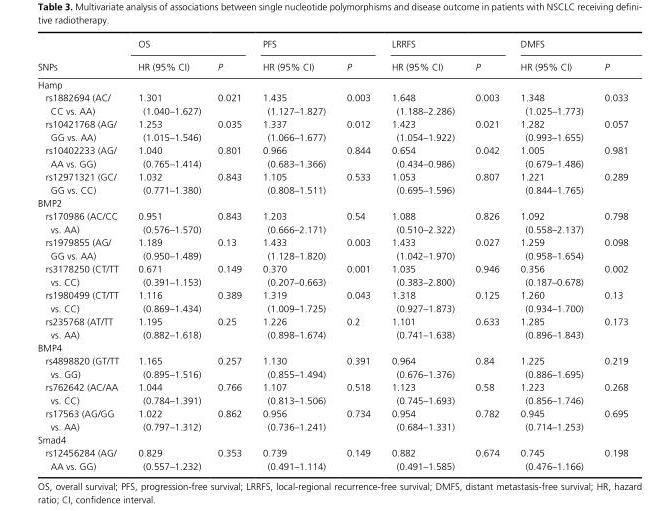table: (37, 37, 627, 471)
table column: (37, 37, 127, 471), (251, 37, 335, 471), (380, 37, 464, 471), (509, 37, 593, 471), (127, 37, 208, 471), (335, 37, 380, 471), (464, 37, 509, 471), (208, 37, 251, 471), (593, 37, 627, 471)
table column header: (37, 37, 627, 75)
table projected row header: (37, 75, 627, 90), (37, 196, 627, 209), (37, 340, 627, 353), (37, 432, 627, 445)
table row: (37, 90, 627, 117), (37, 169, 627, 196), (37, 261, 627, 288), (37, 353, 627, 380), (37, 117, 627, 143), (37, 143, 627, 169), (37, 209, 627, 235), (37, 235, 627, 261), (37, 288, 627, 314), (37, 314, 627, 340), (37, 380, 627, 406), (37, 406, 627, 432), (37, 445, 627, 471), (37, 54, 627, 75), (37, 37, 627, 54), (37, 75, 627, 90), (37, 196, 627, 209), (37, 340, 627, 353), (37, 432, 627, 445)
table spanning cell: (37, 37, 127, 75), (251, 37, 380, 54), (380, 37, 509, 54), (127, 37, 251, 54), (509, 37, 627, 54)
